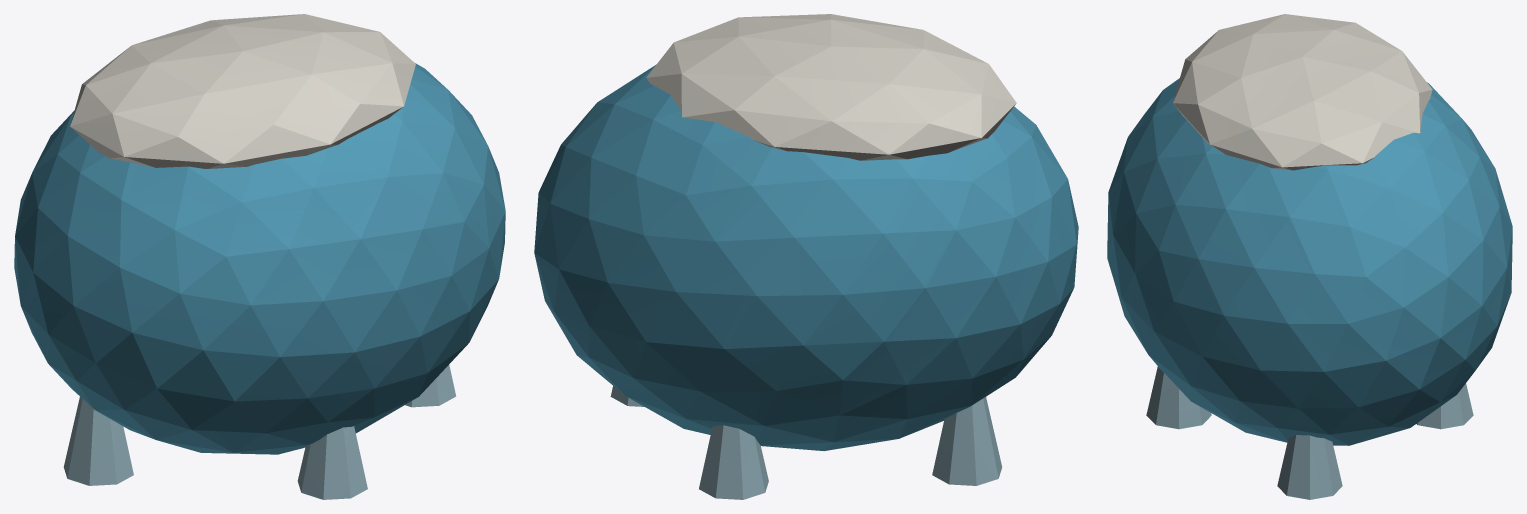
File: glacier_ice_boulder_v1.glb
3 renders of one model, left to right at view 1: azimuth 30°, elevation 25°; view 2: azimuth 150°, elevation 25°; view 3: azimuth 270°, elevation 25°, orthographic. The views are drawn at different scales.
Visible parts, largest first — view 1: glacier_ice_boulder_v1; view 2: glacier_ice_boulder_v1; view 3: glacier_ice_boulder_v1.
Boxes of the visible parts, x1=… form: glacier_ice_boulder_v1: x1=14, y1=14, x2=505, y2=499; glacier_ice_boulder_v1: x1=534, y1=14, x2=1078, y2=499; glacier_ice_boulder_v1: x1=1107, y1=14, x2=1512, y2=499.
Bounding box in the file's own units: 2.68 × 2.12 × 2.23.
